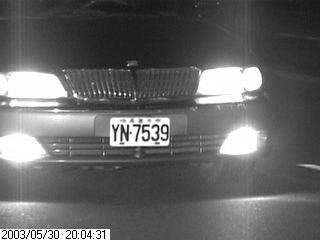plate: (108, 115, 171, 149)
